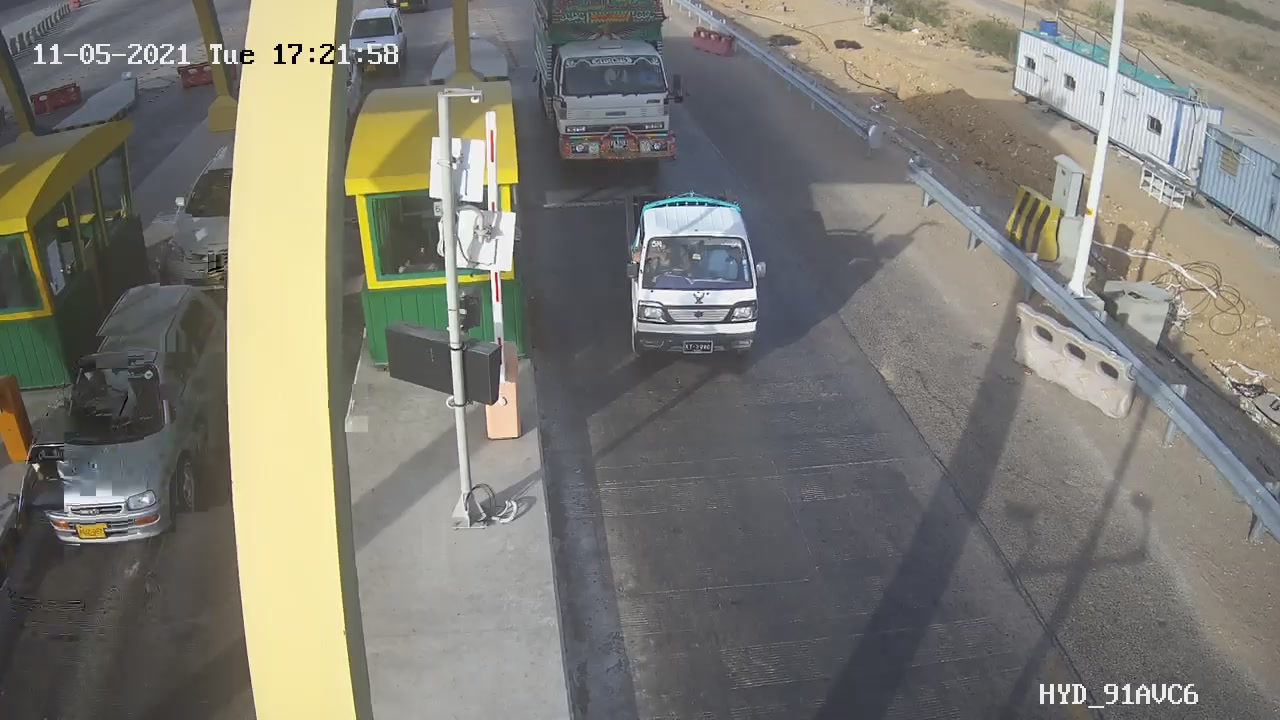F1: (611, 177, 782, 373)
